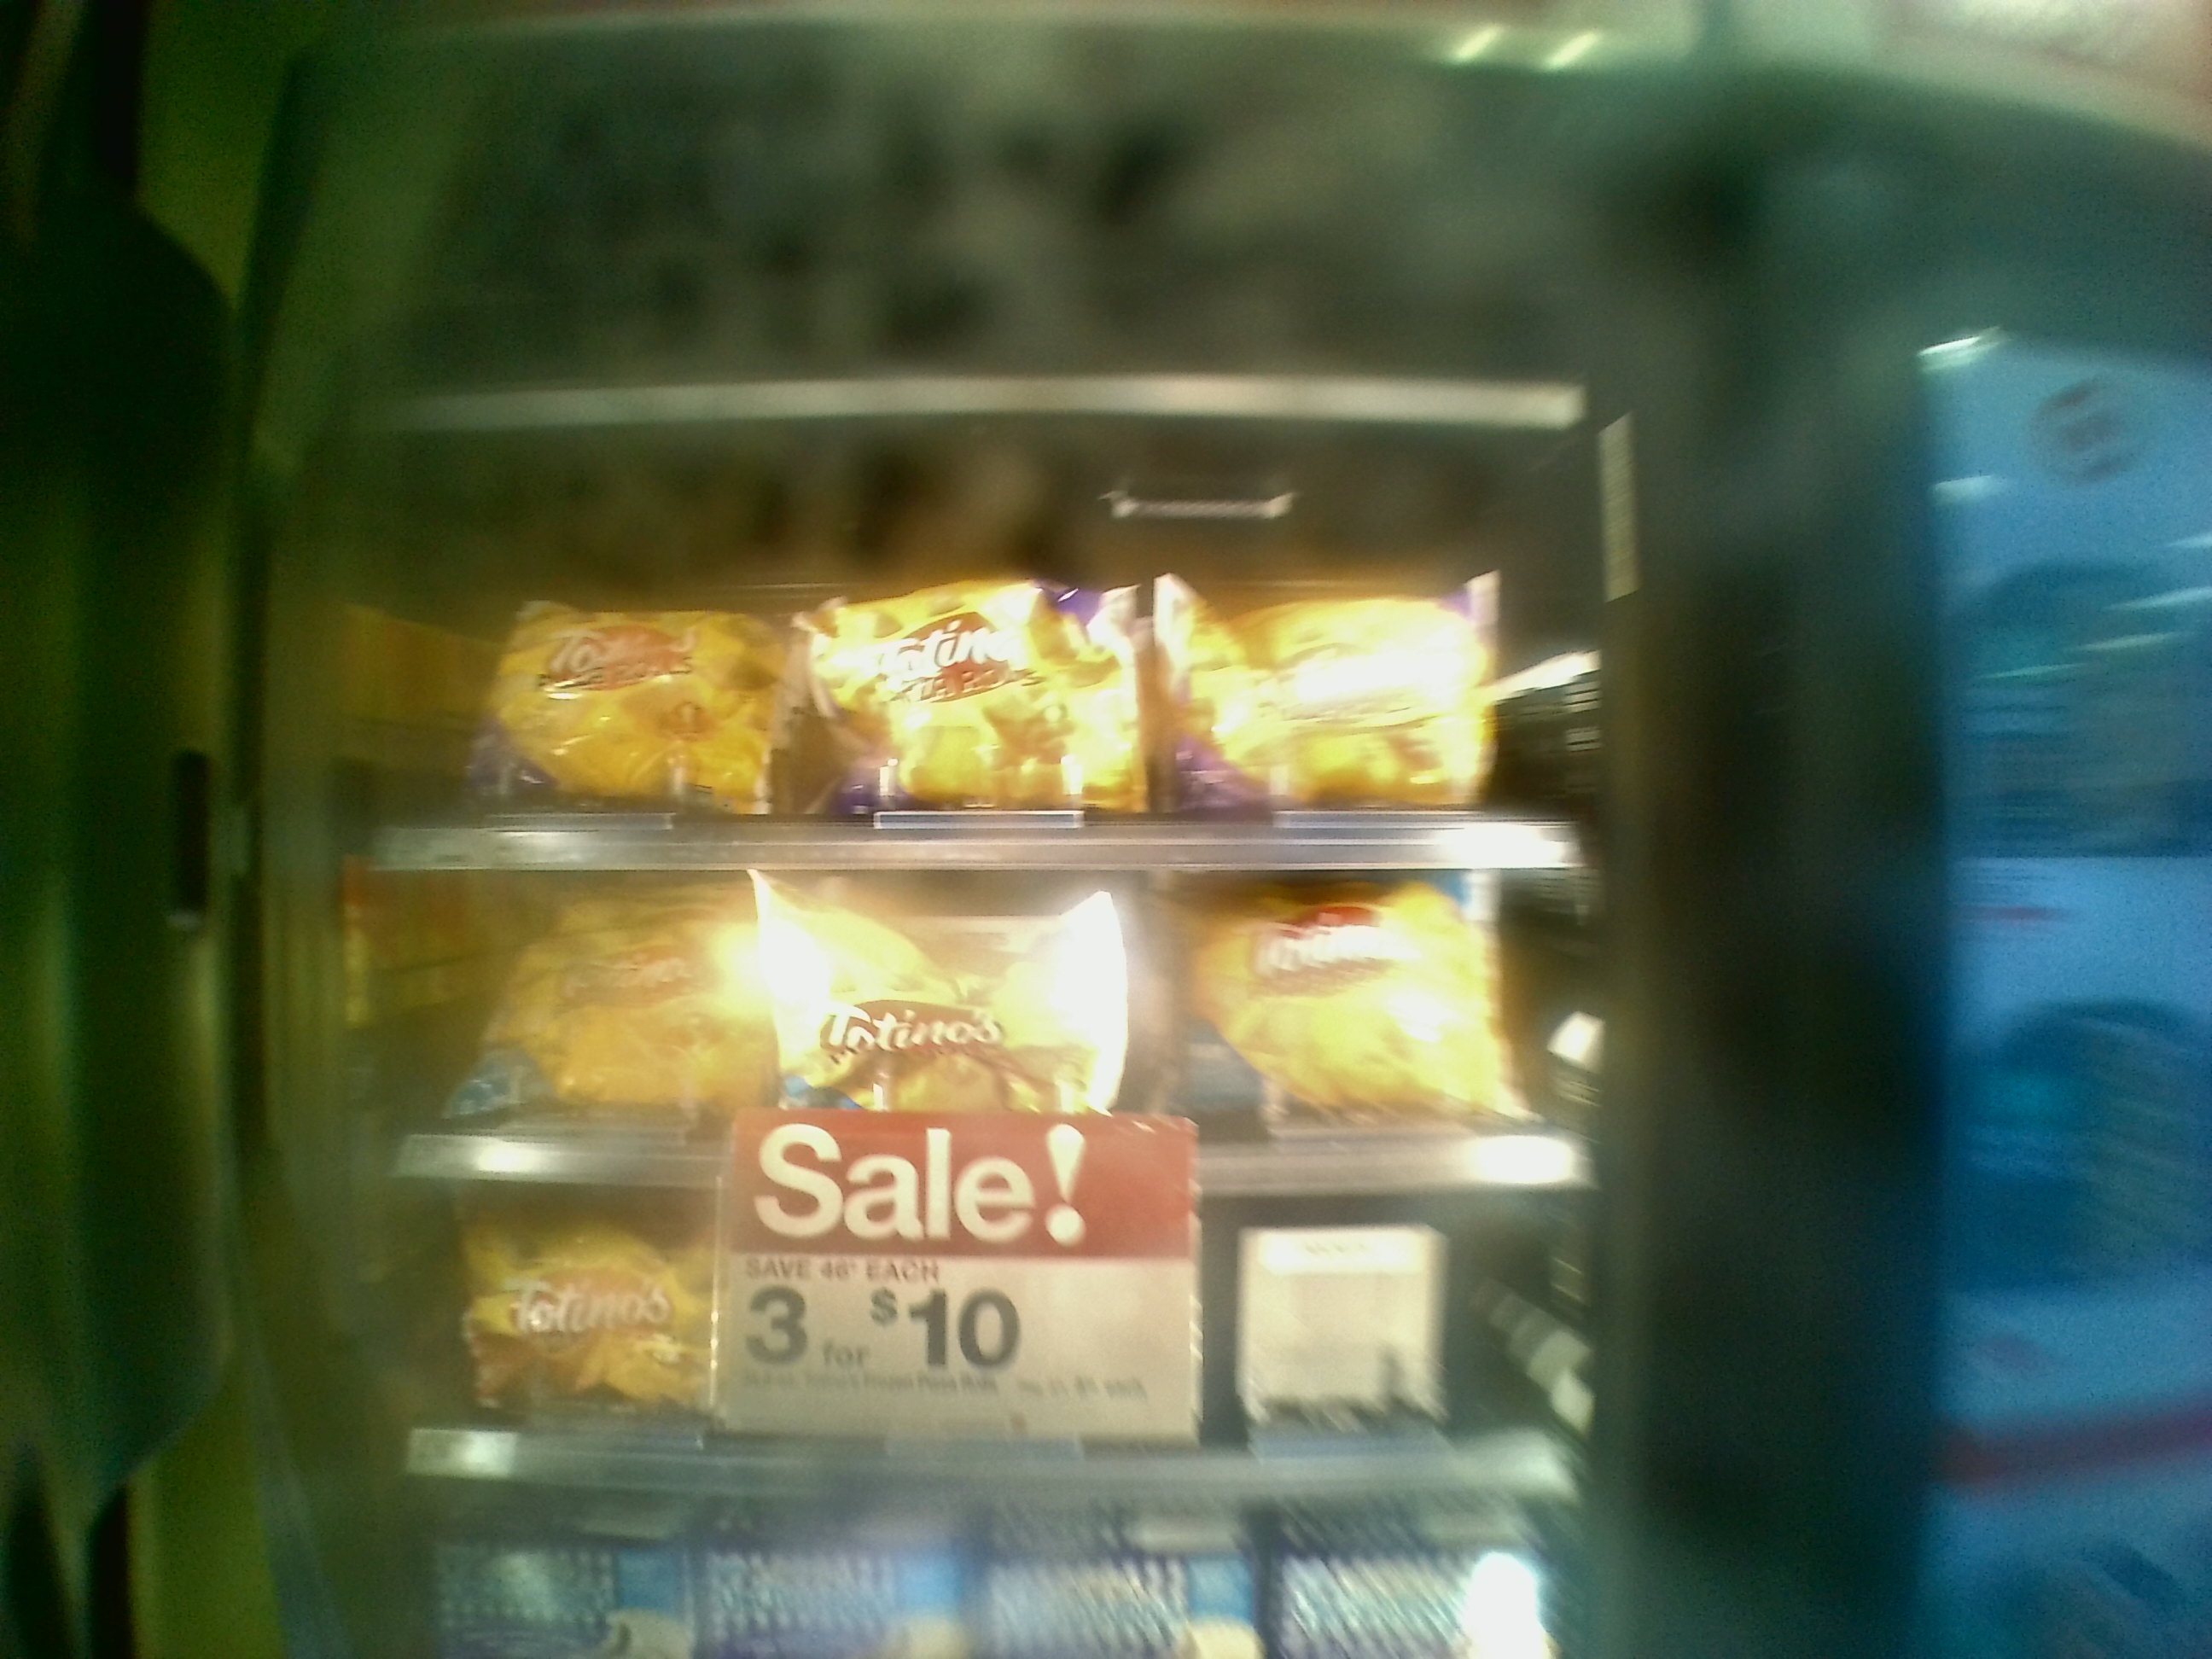shelf: (354, 479, 1583, 864), (338, 1140, 1569, 1480), (340, 843, 1575, 1176)
